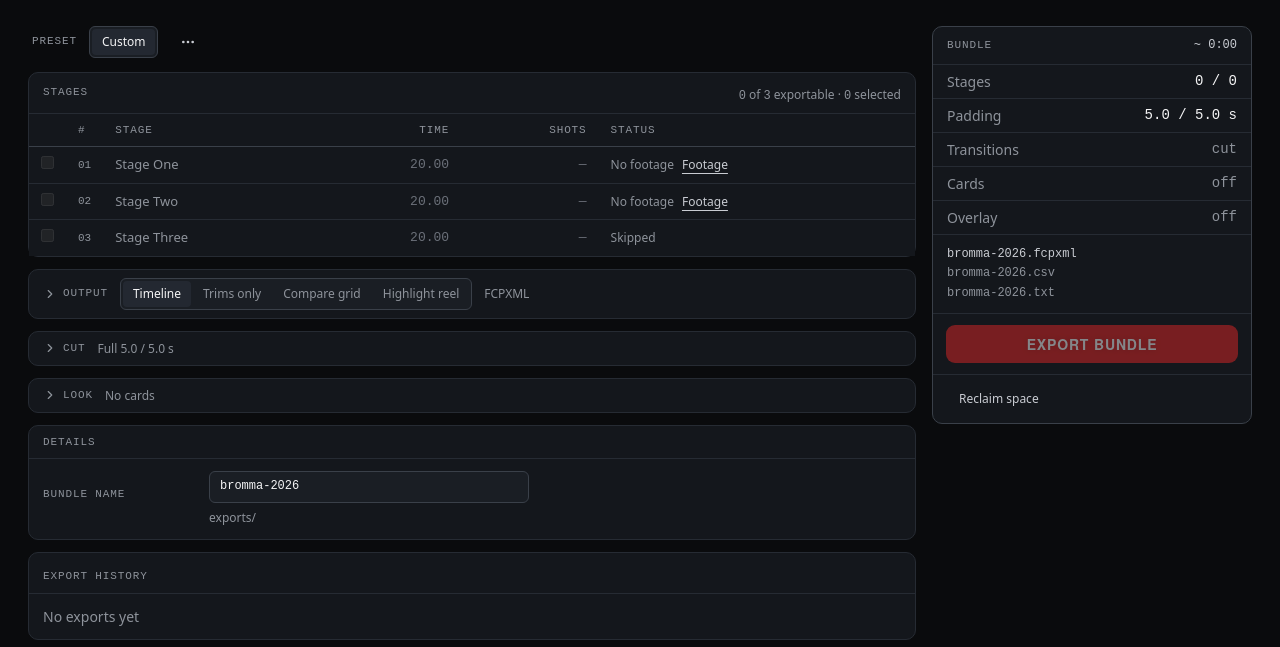
Test: Export compare grid mode › surfaces a submit-time rejection as an error without claiming success
The image size is (1280, 647).
Click the button "Compare grid": click(322, 294) [273, 281, 371, 307]
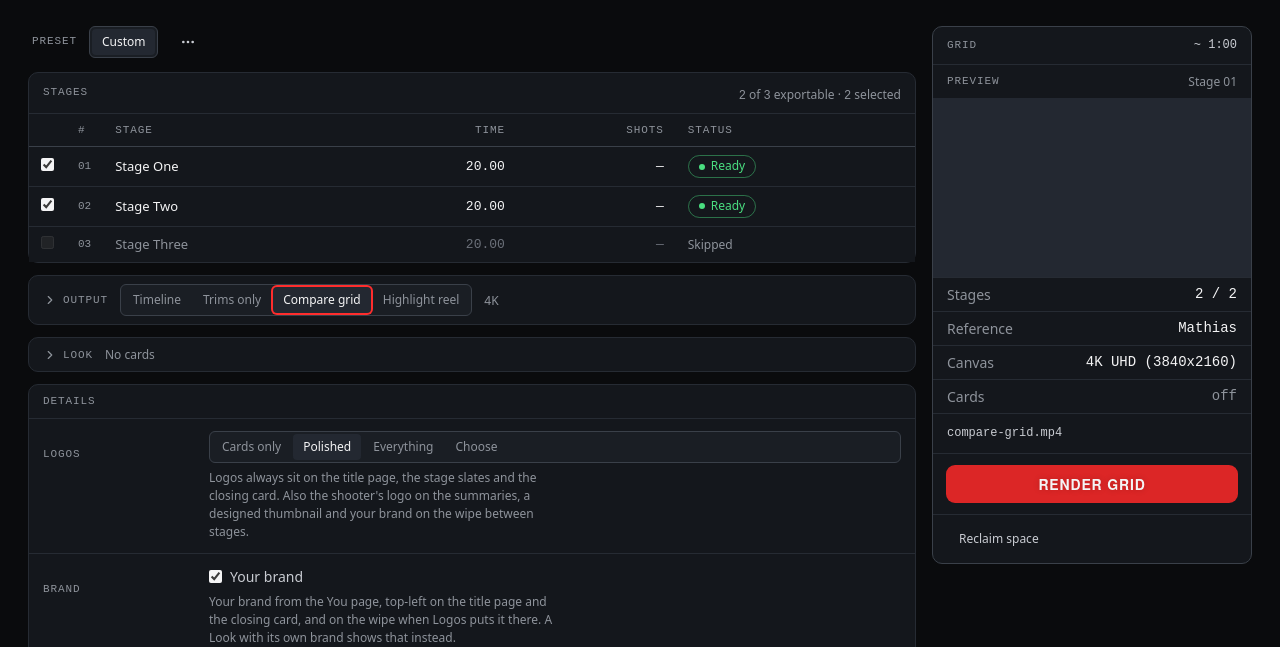
Check: the checkbox named "Stage Two" is checked, box [41, 198, 54, 211]
Click the button "Output": click(75, 300) [43, 292, 108, 308]
(page scrolled)
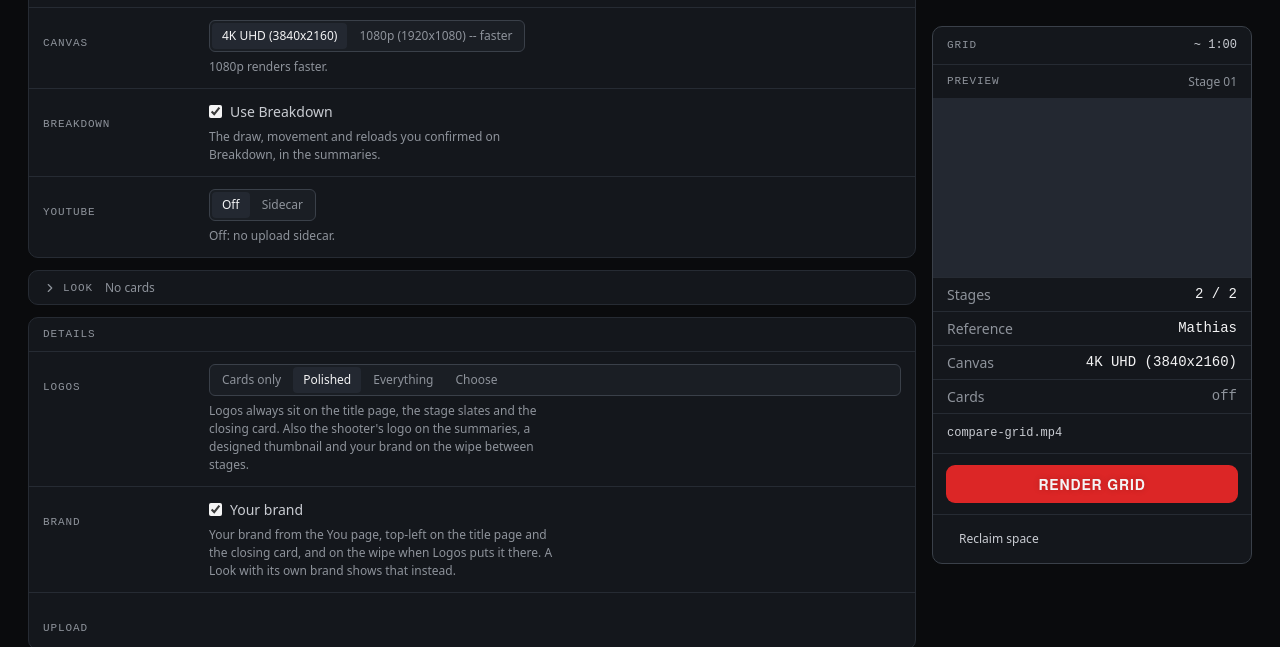
Click the button "Look": click(68, 288) [43, 280, 93, 296]
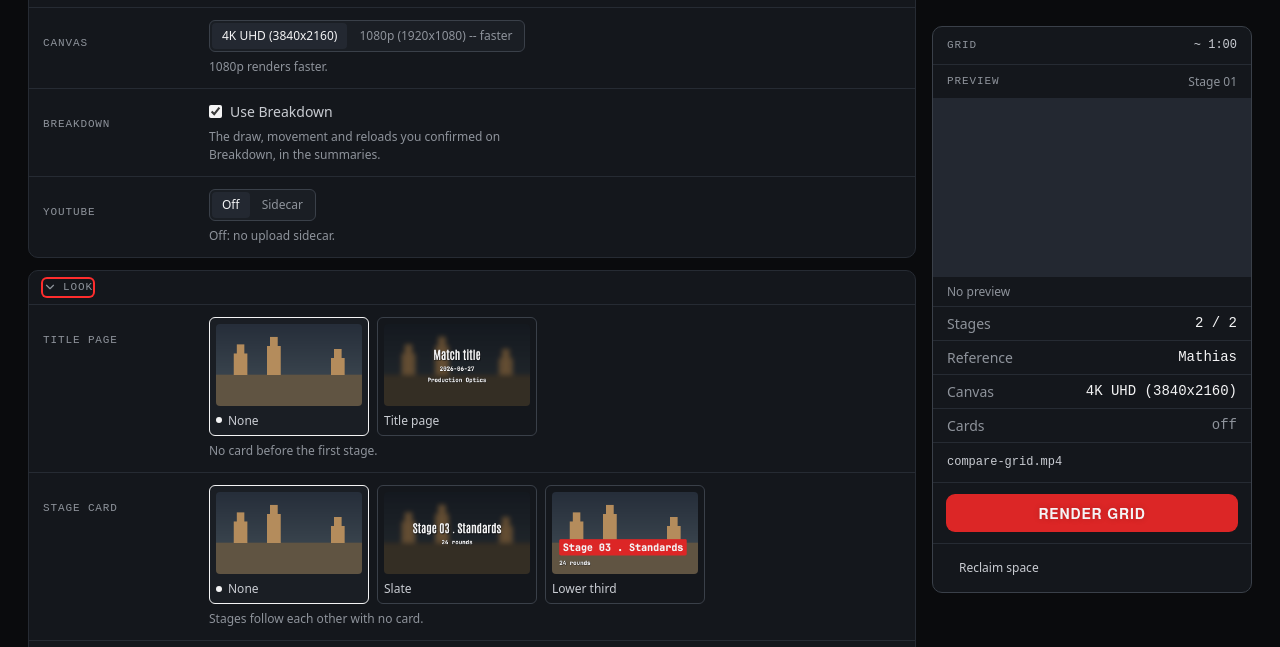
Click the button "Render grid": click(1092, 513) [947, 495, 1237, 531]
(page scrolled)
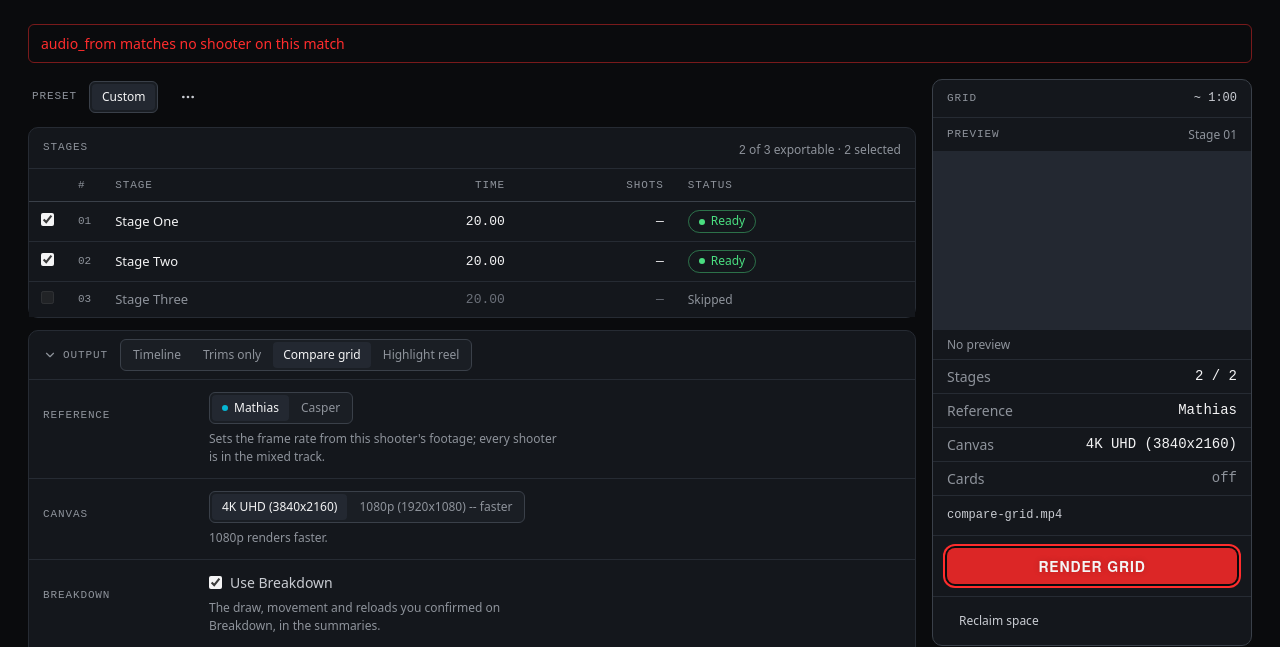
Check: the text "audio_from matches no shooter on this match" is shown, box [28, 24, 1252, 62]
